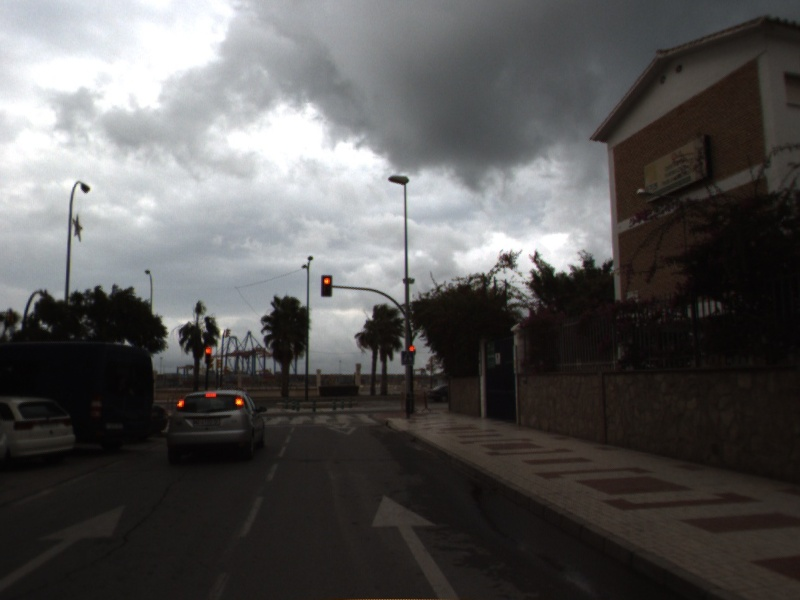STRAIGHT: (1, 502, 129, 590), (368, 491, 462, 600)
